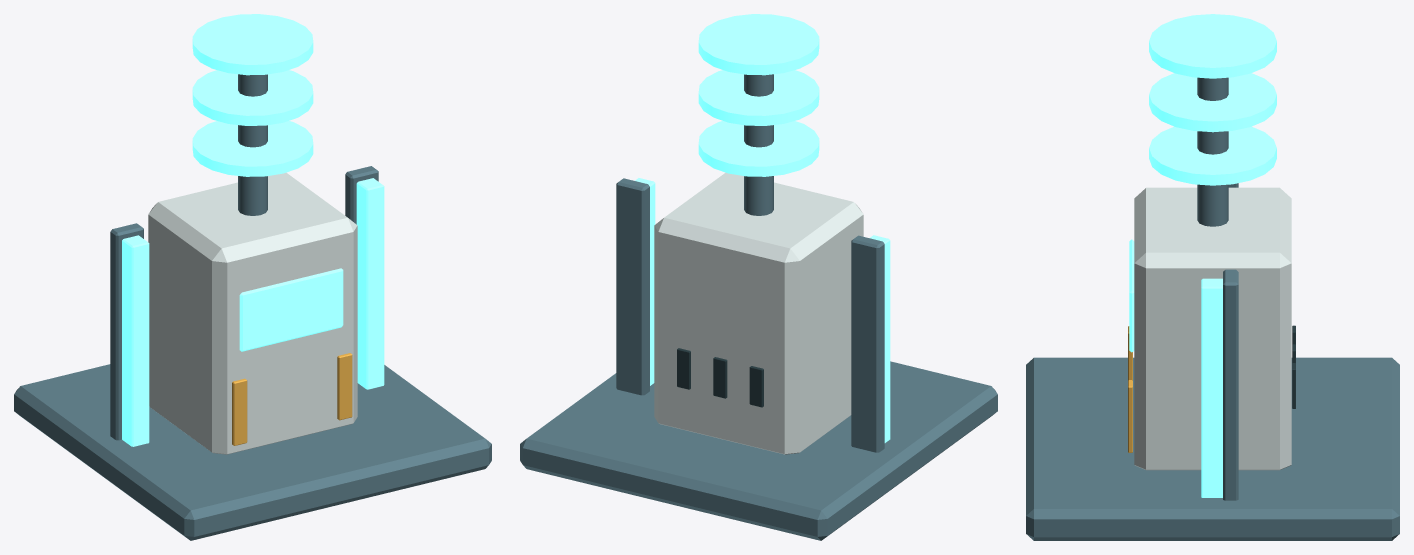
The model's file is relay.glb.
3 renders of one model, left to right at view 1: azimuth 30°, elevation 25°; view 2: azimuth 150°, elevation 25°; view 3: azimuth 270°, elevation 25°, orthographic. The views are drawn at different scales.
Visible parts, largest first — view 1: Signal cabinet, Foundation, Display, Signal halo.002, Corner signal.001, Corner signal, Signal halo, Signal halo.001, Protected corner, Mast, Warning stripe.001, Warning stripe (+1 smaller); view 2: Signal cabinet, Foundation, Protected corner.001, Protected corner, Signal halo.002, Signal halo, Signal halo.001, Mast, Corner signal, Corner signal.001, Cabinet vent.001, Cabinet vent; view 3: Foundation, Signal cabinet, Signal halo.002, Signal halo, Signal halo.001, Corner signal.001, Protected corner.001, Mast, Display.
Part boxes in pixels (x1,y1,x2,y2): Signal cabinet: (148,172,357,454); Foundation: (14,364,491,540); Display: (239,268,343,351); Signal halo.002: (192,14,313,75); Corner signal.001: (356,178,384,389); Corner signal: (122,235,149,446); Signal halo: (192,121,313,176); Signal halo.001: (192,70,313,125); Protected corner: (110,223,143,440); Mast: (238,74,267,215); Warning stripe.001: (337,353,352,420); Warning stripe: (232,378,247,445); Signal cabinet: (654,172,863,454); Foundation: (520,361,997,540); Protected corner.001: (616,178,649,395); Protected corner: (851,235,884,452); Signal halo.002: (698,14,819,75); Signal halo: (698,121,819,176); Signal halo.001: (698,70,819,125); Mast: (744,74,773,215); Corner signal: (869,235,890,442); Corner signal.001: (635,178,655,385); Cabinet vent.001: (713,357,727,398); Cabinet vent: (749,366,763,407); Foundation: (1026,357,1399,540); Signal cabinet: (1134,187,1291,470); Signal halo.002: (1149,14,1276,78); Signal halo: (1149,126,1276,185); Signal halo.001: (1149,73,1276,132); Corner signal.001: (1201,278,1222,497); Protected corner.001: (1223,269,1238,500); Mast: (1197,77,1228,226); Display: (1129,239,1134,352).
Bounding box in the file's own units: 3.8 × 4.76 × 3.8.
